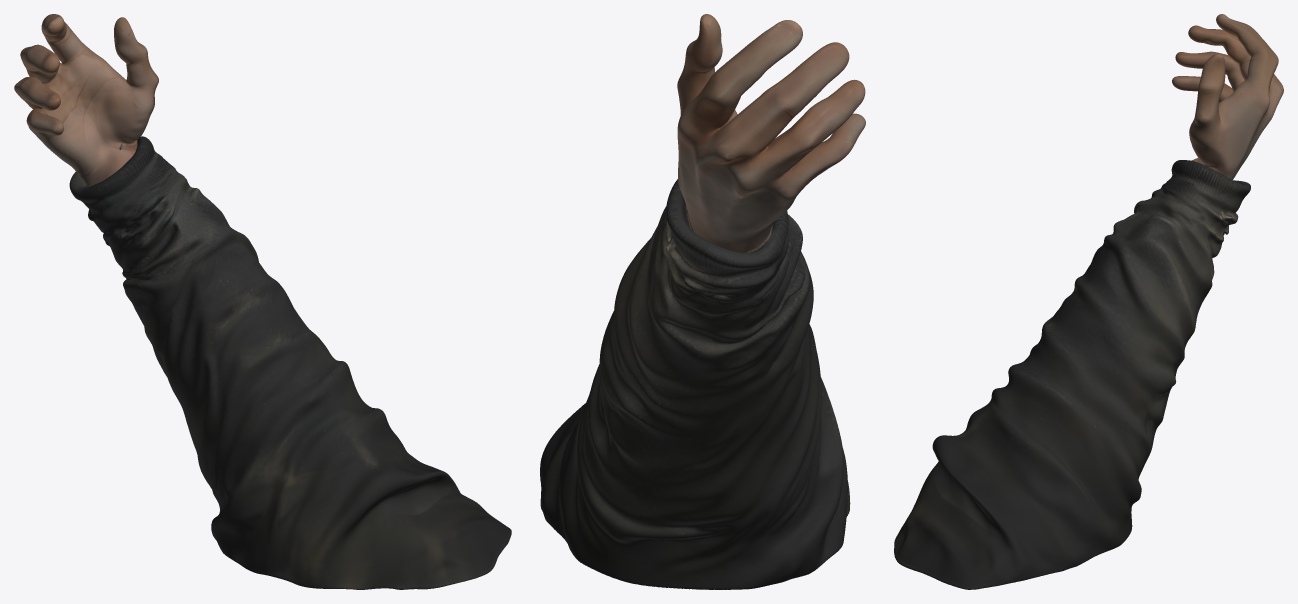
Rendered from hand.glb.
3 renders of one model, left to right at view 1: azimuth 30°, elevation 25°; view 2: azimuth 150°, elevation 25°; view 3: azimuth 270°, elevation 25°, orthographic. The views are drawn at different scales.
Visible parts, largest first — view 1: tripo_node_18297080-d58d-459e-bad5-992f4ba9a412; view 2: tripo_node_18297080-d58d-459e-bad5-992f4ba9a412; view 3: tripo_node_18297080-d58d-459e-bad5-992f4ba9a412.
Boxes of the visible parts, box(x1,y1,x2,y2) form: tripo_node_18297080-d58d-459e-bad5-992f4ba9a412: box(14, 14, 511, 589); tripo_node_18297080-d58d-459e-bad5-992f4ba9a412: box(540, 14, 865, 589); tripo_node_18297080-d58d-459e-bad5-992f4ba9a412: box(894, 14, 1283, 589).
Bounding box in the file's own units: 0.7482 × 1 × 0.8027.
1 material, 1 textured.
